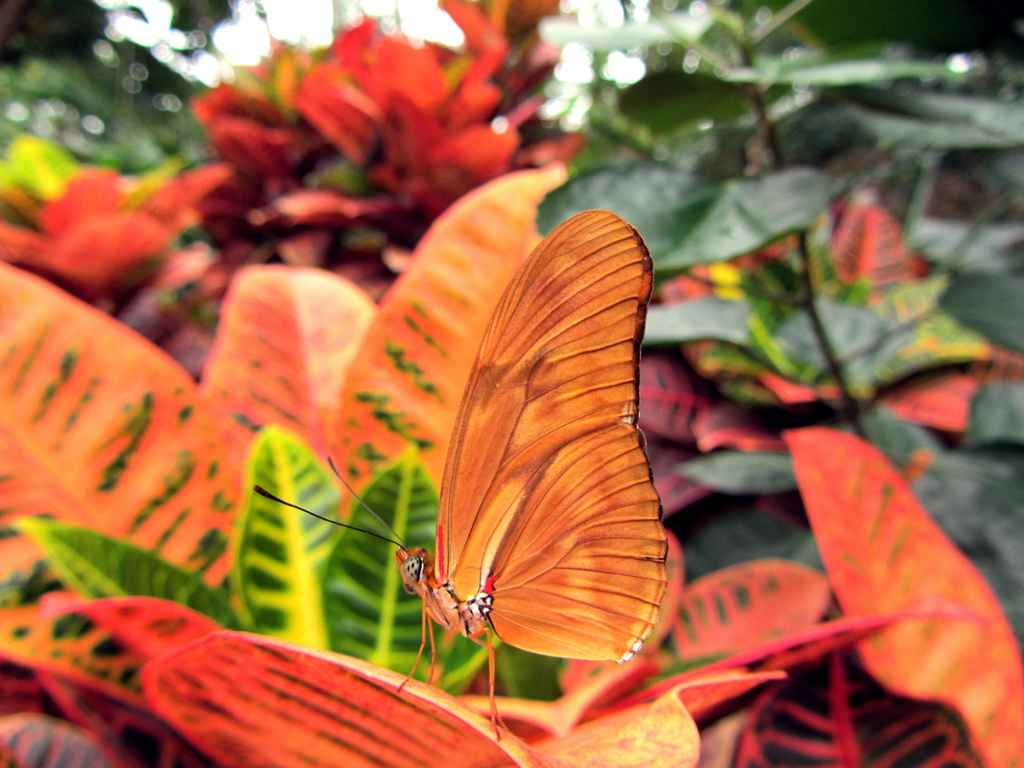Butterfly: (352, 195, 722, 706)
